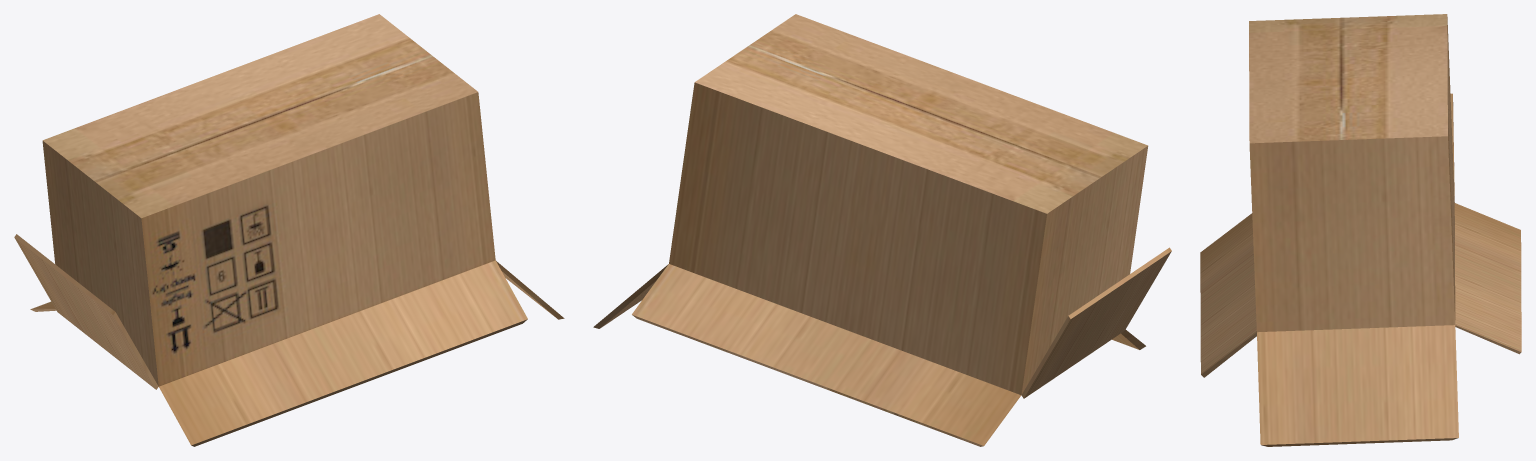
The model's file is obj_cardboardbox.fbx.
The picture shows the model from 3 angles, left to right: view 1: azimuth 30°, elevation 25°; view 2: azimuth 150°, elevation 25°; view 3: azimuth 270°, elevation 25°; orthographic projection. The views are drawn at different scales.
Parts seen in each view (by area): view 1: pCube54; view 2: pCube54; view 3: pCube54.
Part boxes in pixels (x1,y1,x2,y2): pCube54: (14, 14, 564, 446); pCube54: (593, 14, 1171, 446); pCube54: (1200, 14, 1521, 446).
Size of the model in its own units: 4.62 by 2.62 by 2.79.
Materials: 1 (1 with a texture image).
